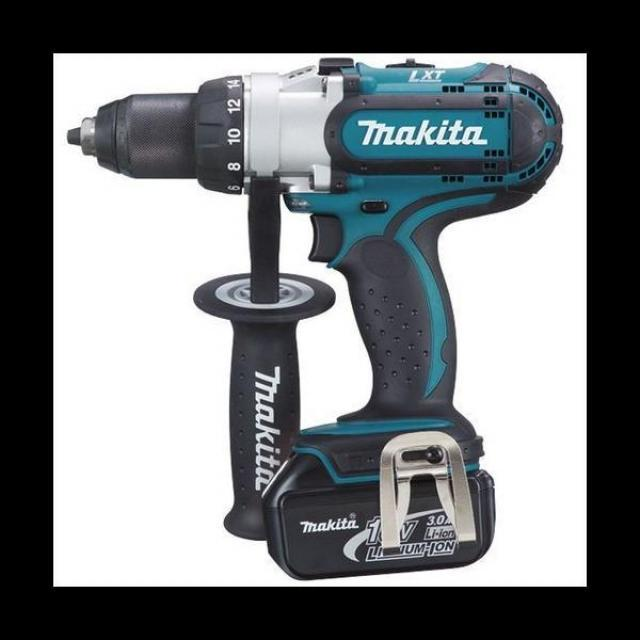drill: (67, 58, 564, 581)
